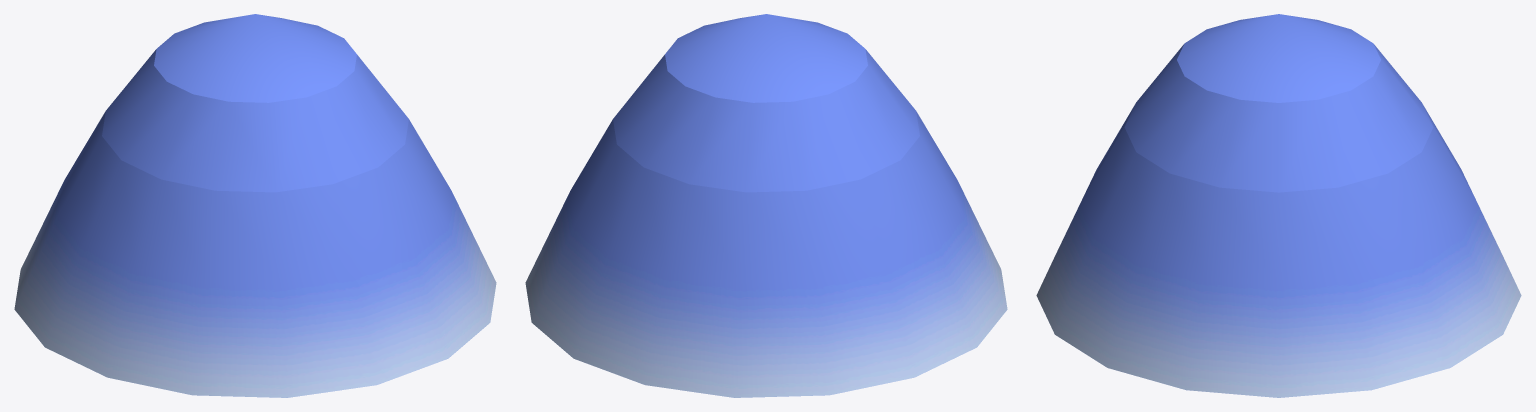
The model's file is stadium.obj.
3 renders of one model, left to right at view 1: azimuth 30°, elevation 25°; view 2: azimuth 150°, elevation 25°; view 3: azimuth 270°, elevation 25°, orthographic.
Visible parts, largest first — view 1: polygon3_polygon3.004_polygon3_polygon3.001_polygon3_polygon3.00; view 2: polygon3_polygon3.004_polygon3_polygon3.001_polygon3_polygon3.00; view 3: polygon3_polygon3.004_polygon3_polygon3.001_polygon3_polygon3.00.
Part boxes in pixels (x1,y1,x2,y2): polygon3_polygon3.004_polygon3_polygon3.001_polygon3_polygon3.00: [14, 14, 496, 397]; polygon3_polygon3.004_polygon3_polygon3.001_polygon3_polygon3.00: [525, 14, 1007, 397]; polygon3_polygon3.004_polygon3_polygon3.001_polygon3_polygon3.00: [1036, 14, 1521, 397].
Bounding box in the file's own units: 1024 × 656 × 1024.
25 materials, 25 textured.
